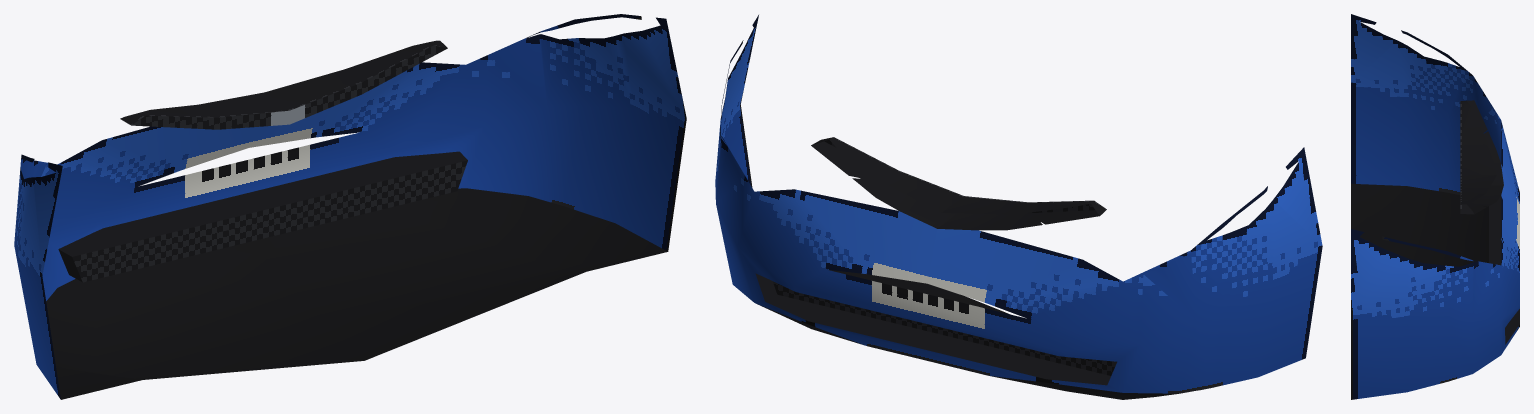
File: bumper_F_stock.glb
3 renders of one model, left to right at view 1: azimuth 30°, elevation 25°; view 2: azimuth 150°, elevation 25°; view 3: azimuth 270°, elevation 25°, orthographic. The views are drawn at different scales.
Visible parts, largest first — view 1: bumper_F_stock; view 2: bumper_F_stock; view 3: bumper_F_stock.
Part boxes in pixels (left/top/right/bottom): bumper_F_stock: left=14, top=14, right=686, bottom=399; bumper_F_stock: left=715, top=15, right=1322, bottom=399; bumper_F_stock: left=1351, top=14, right=1519, bottom=399.
Bounding box in the file's own units: 1.74 × 0.6913 × 0.54.
1 material, 1 textured.
